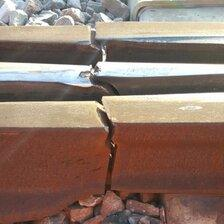railway-gap: (57, 96, 168, 208), (61, 8, 139, 63), (78, 65, 126, 97)
